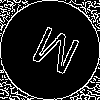M: (25, 25, 82, 85)
